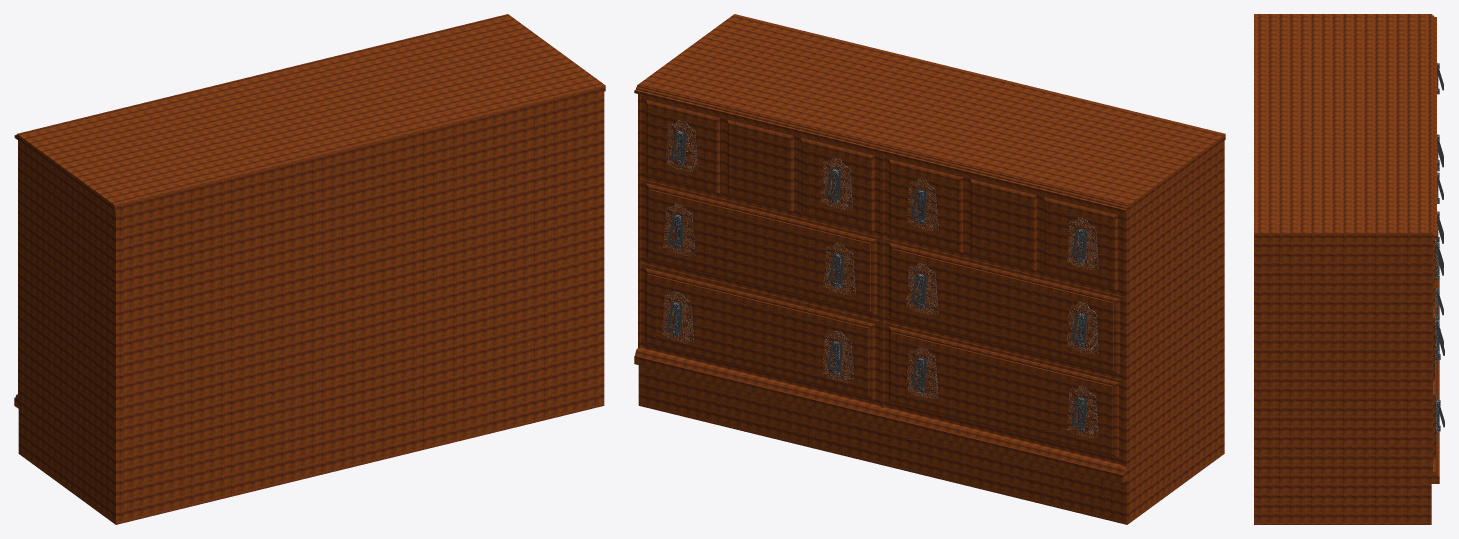
3 views of the same model, side by side, from view 1: azimuth 30°, elevation 25°; view 2: azimuth 150°, elevation 25°; view 3: azimuth 270°, elevation 25° (orthographic). The views are drawn at different scales.
Visible parts, largest first — view 1: mesh1_mesh1-geometry; view 2: mesh1_mesh1-geometry, mesh3_mesh3-geometry, mesh13_mesh13-geometry, mesh6_mesh6-geometry, mesh5_mesh5-geometry, mesh7_mesh7-geometry, mesh11_mesh11-geometry; view 3: mesh1_mesh1-geometry, mesh13_mesh13-geometry, mesh11_mesh11-geometry, mesh3_mesh3-geometry.
Boxes of the visible parts, box(x1,y1,x2,y2) form: mesh1_mesh1-geometry: box(14, 14, 605, 524); mesh1_mesh1-geometry: box(634, 14, 1225, 524); mesh3_mesh3-geometry: box(645, 183, 1119, 457); mesh13_mesh13-geometry: box(661, 120, 1098, 438); mesh6_mesh6-geometry: box(727, 120, 1036, 270); mesh5_mesh5-geometry: box(646, 100, 962, 252); mesh7_mesh7-geometry: box(801, 138, 1117, 290); mesh11_mesh11-geometry: box(666, 130, 1087, 427); mesh1_mesh1-geometry: box(1254, 14, 1439, 524); mesh13_mesh13-geometry: box(1435, 63, 1440, 441); mesh11_mesh11-geometry: box(1435, 62, 1444, 427); mesh3_mesh3-geometry: box(1433, 238, 1435, 462).
Size of the model in its own units: 0.8101 by 0.5047 by 0.2981.
